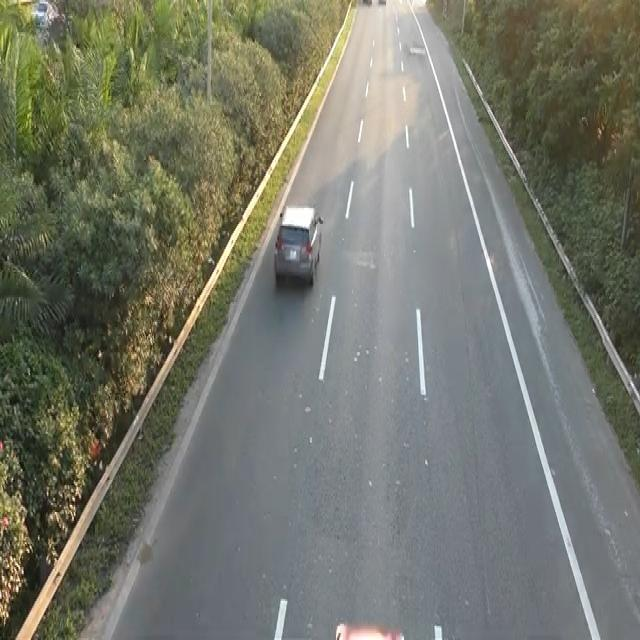car: (272, 201, 324, 288)
